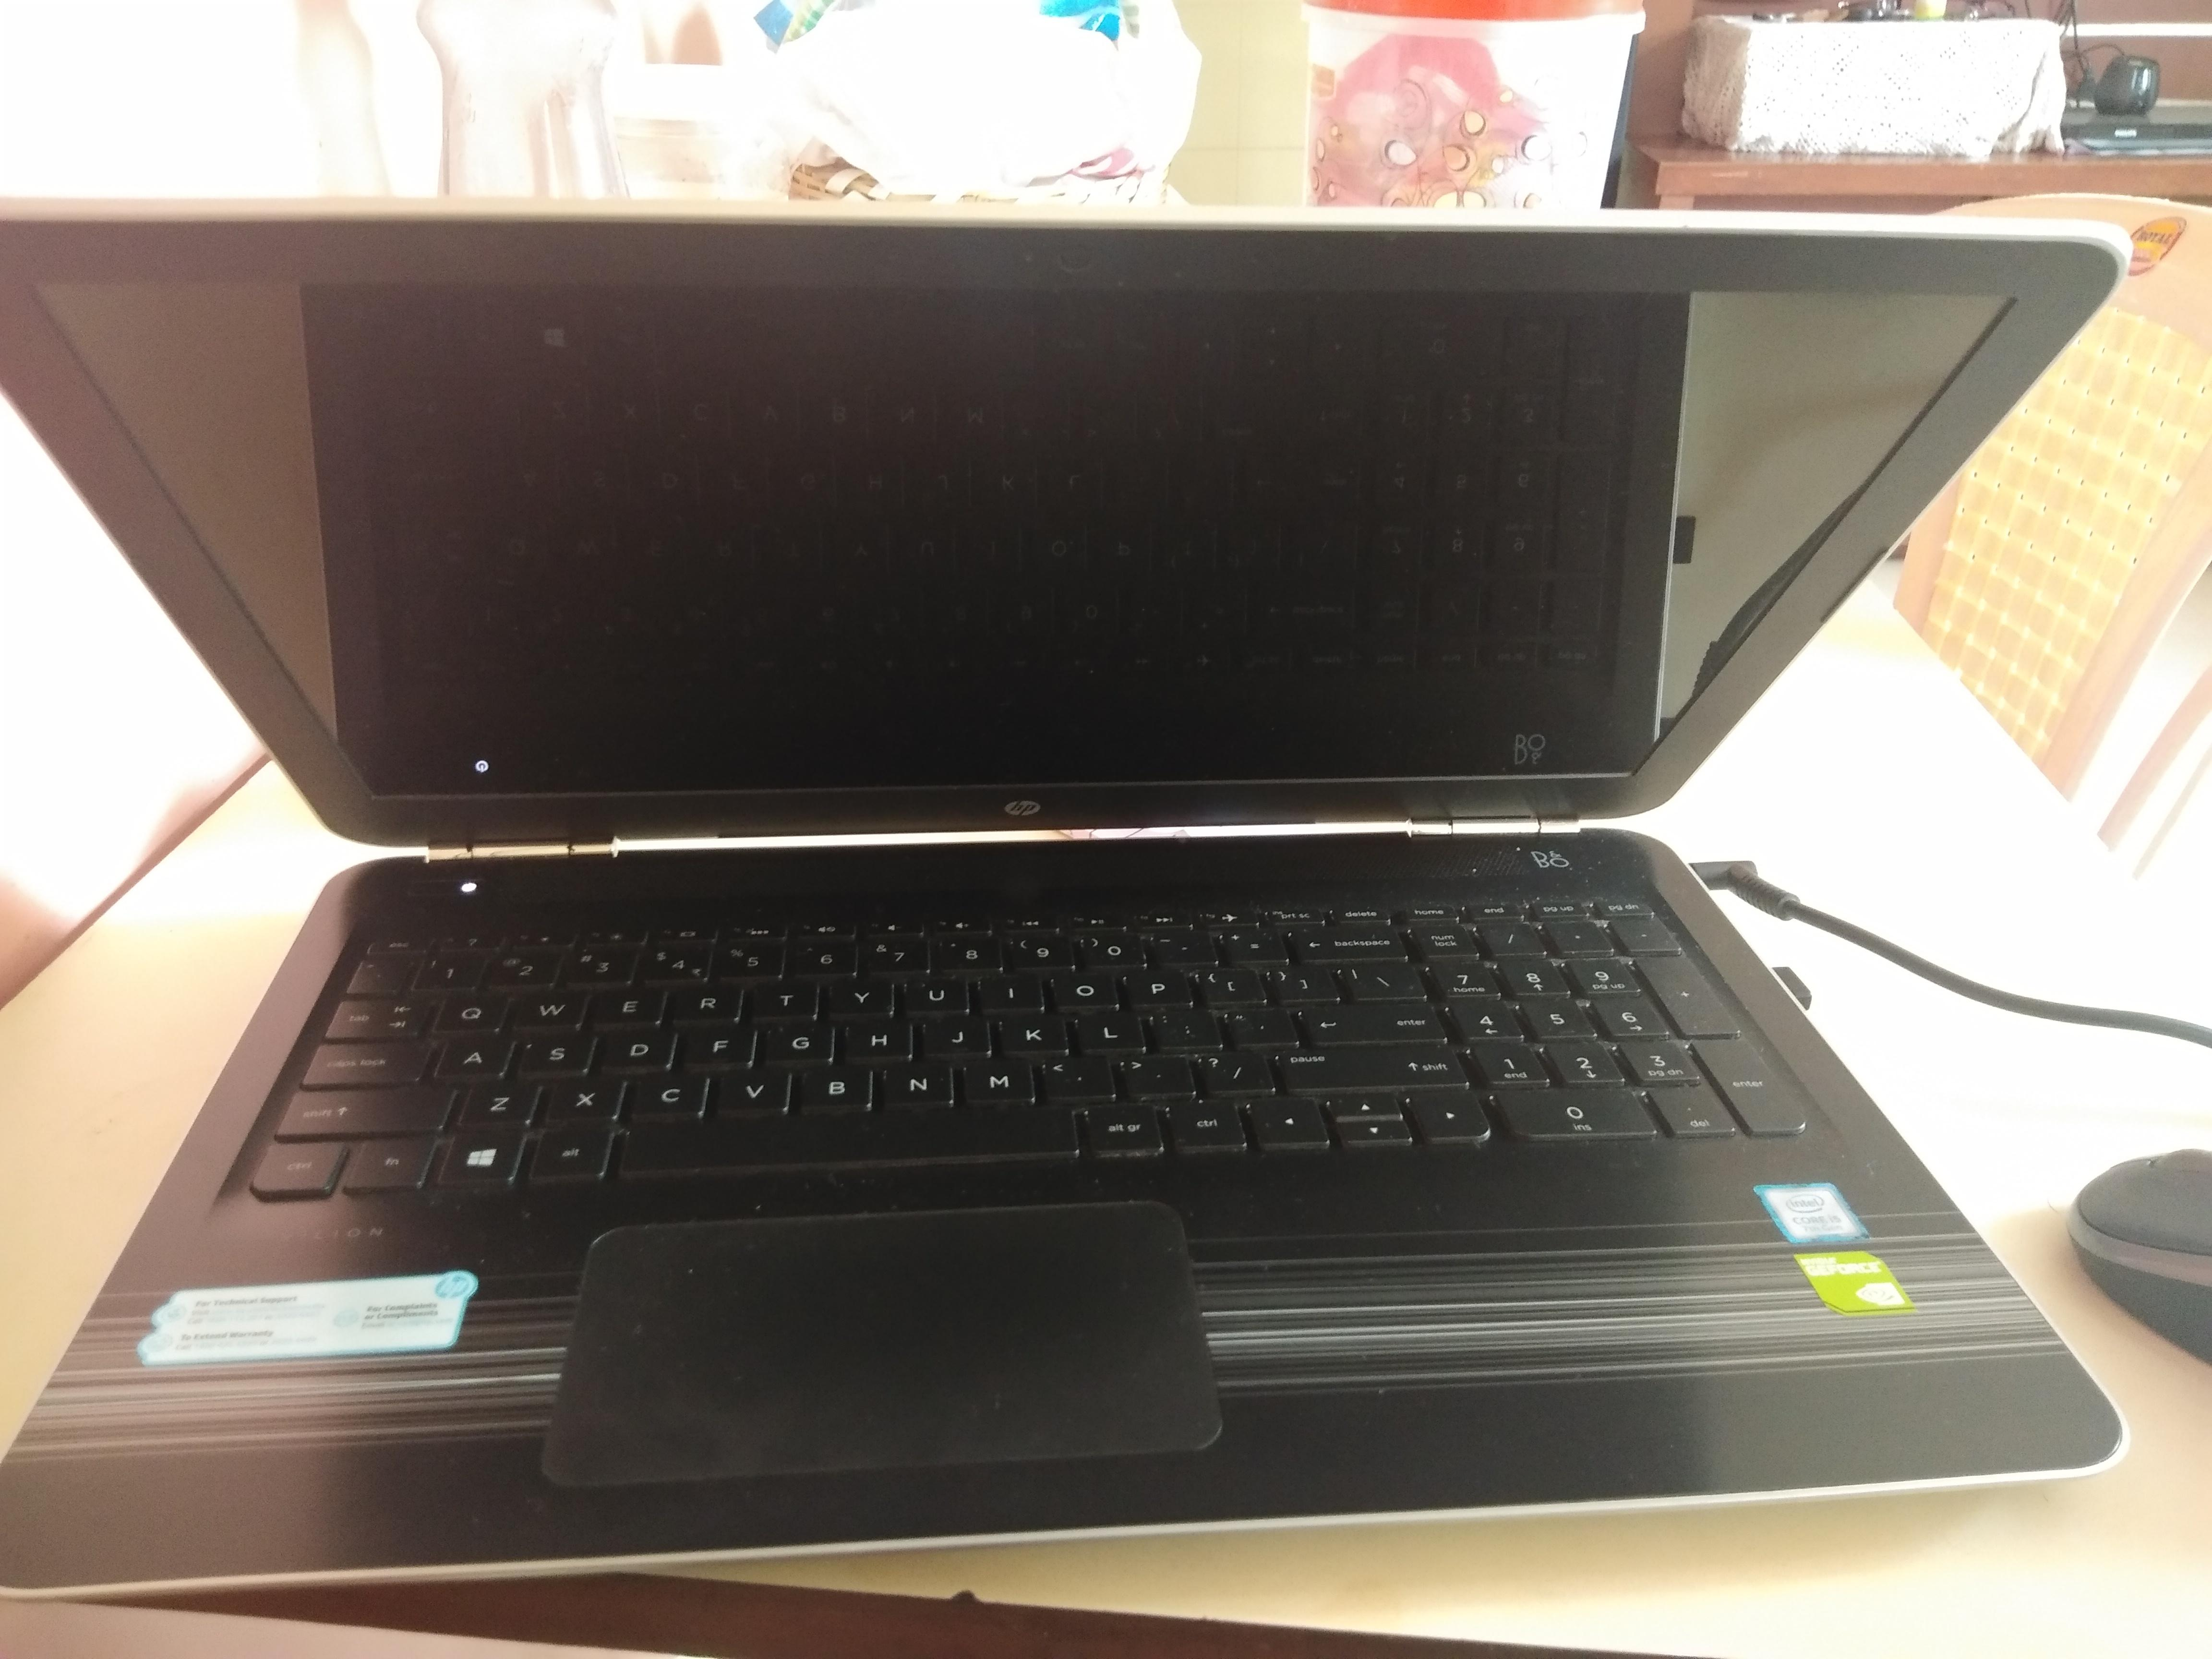laptop: (0, 181, 2202, 1619)
